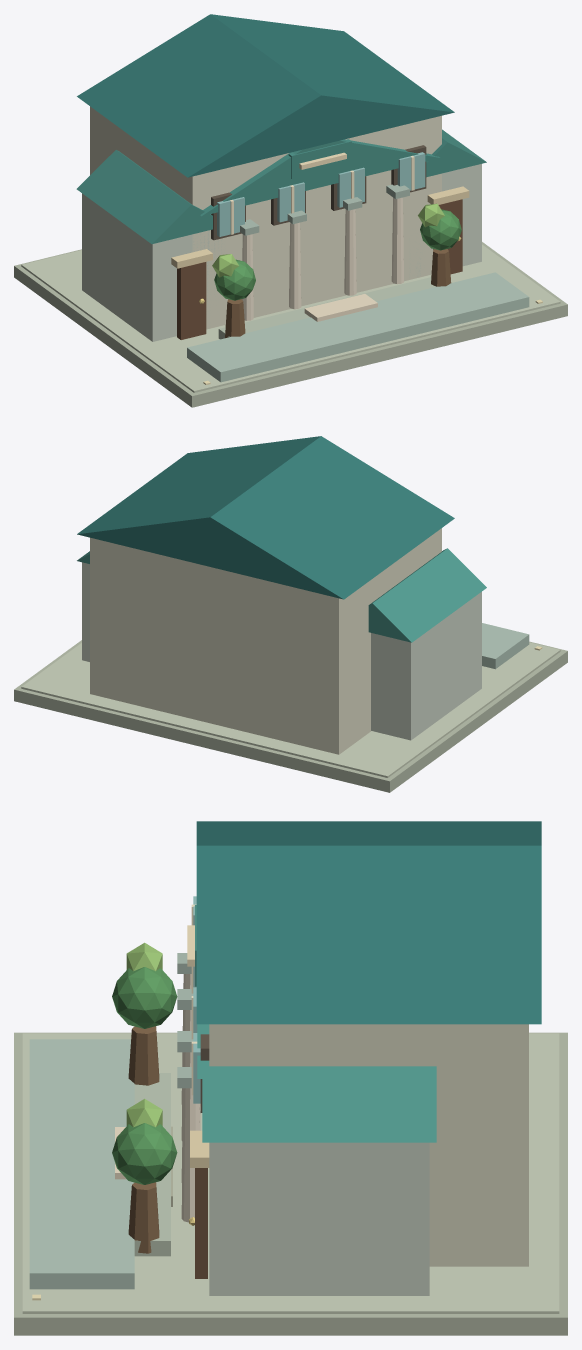
Rendered from bank-lv3.obj.
3 renders of one model, top to bottom at view 1: azimuth 30°, elevation 25°; view 2: azimuth 150°, elevation 25°; view 3: azimuth 270°, elevation 25°, orthographic. The views are drawn at different scales.
Visible parts, largest first — view 1: bank_19, bank_3, bank_23, bank_4, bank_20, bank_1, bank_0, bank_13, bank_22, bank_21, bank_17, bank_15 (+7 smaller); view 2: bank_3, bank_19, bank_20, bank_1, bank_0, bank_4, bank_23; view 3: bank_19, bank_20, bank_3, bank_1, bank_23, bank_4, bank_0, bank_17, bank_16, bank_15, bank_13, bank_18 (+4 smaller).
Boxes of the visible parts, x1,y1,x2,y2 form: bank_19: [77, 14, 454, 177]; bank_3: [90, 106, 441, 329]; bank_23: [187, 272, 529, 382]; bank_4: [76, 129, 486, 243]; bank_20: [82, 164, 481, 341]; bank_1: [21, 244, 560, 392]; bank_0: [14, 242, 567, 407]; bank_13: [242, 197, 403, 320]; bank_22: [217, 152, 425, 236]; bank_21: [177, 199, 462, 339]; bank_17: [214, 209, 461, 300]; bank_15: [218, 277, 435, 339]; bank_3: [90, 528, 441, 754]; bank_19: [77, 436, 454, 599]; bank_20: [82, 562, 481, 740]; bank_1: [21, 642, 560, 777]; bank_0: [14, 640, 567, 792]; bank_4: [77, 548, 486, 642]; bank_23: [482, 623, 529, 669]; bank_19: [196, 821, 541, 1024]; bank_20: [209, 1142, 429, 1295]; bank_3: [209, 1024, 528, 1266]; bank_1: [22, 1033, 559, 1313]; bank_23: [29, 1039, 134, 1289]; bank_4: [195, 905, 436, 1142]; bank_0: [14, 1032, 567, 1335]; bank_17: [112, 967, 177, 1184]; bank_16: [128, 1026, 159, 1253]; bank_15: [134, 1073, 170, 1256]; bank_13: [181, 974, 200, 1222]; bank_18: [126, 942, 162, 1127].
Bounding box in the file's own units: 4.75 × 2.7 × 3.9.
